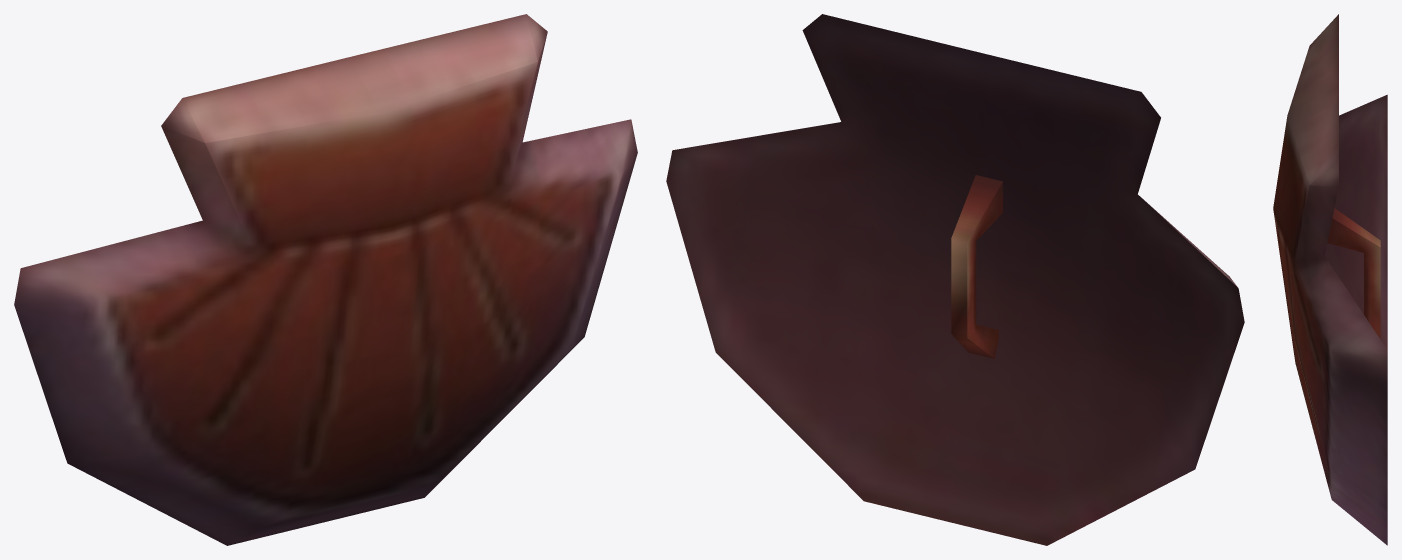
The model's file is aquaShieldR.glb.
The picture shows the model from 3 angles, left to right: view 1: azimuth 30°, elevation 25°; view 2: azimuth 150°, elevation 25°; view 3: azimuth 270°, elevation 25°; orthographic projection. The views are drawn at different scales.
Parts seen in each view (by area): view 1: aquaShieldR; view 2: aquaShieldR; view 3: aquaShieldR.
Boxes of the visible parts, bbox=[...] form: aquaShieldR: bbox=[14, 14, 637, 545]; aquaShieldR: bbox=[666, 14, 1244, 545]; aquaShieldR: bbox=[1273, 14, 1387, 545].
Bounding box in the file's own units: 1.62 × 1.21 × 0.3004.
Materials: 1 (1 with a texture image).
